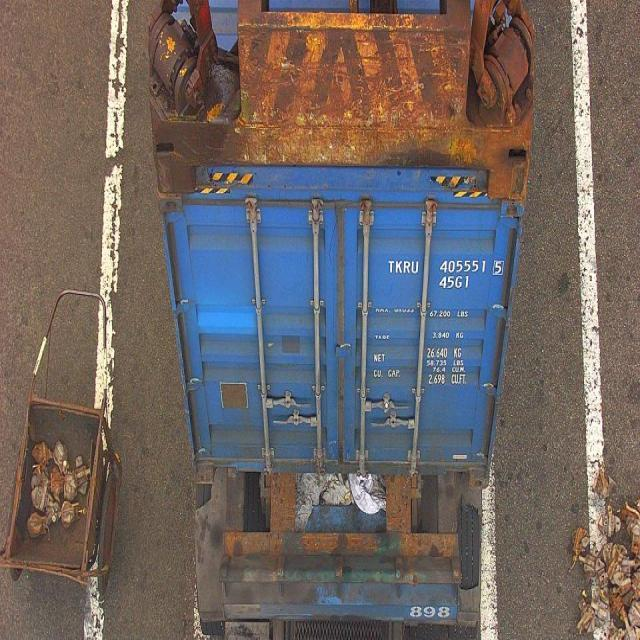ISO: (442, 278, 474, 294)
container_number: (388, 260, 505, 275)
